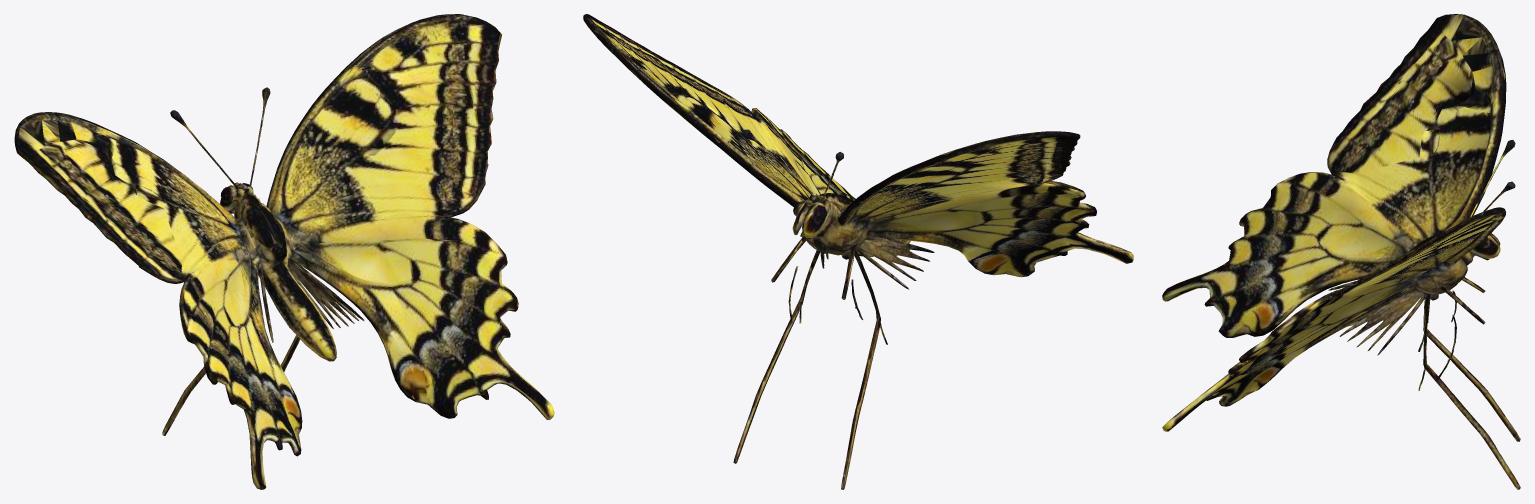
File: swallow.glb
3 views of the same model, side by side, from view 1: azimuth 30°, elevation 25°; view 2: azimuth 150°, elevation 25°; view 3: azimuth 270°, elevation 25° (orthographic). The views are drawn at different scales.
Parts seen in each view (by area): view 1: swallow; view 2: swallow; view 3: swallow.
Boxes of the visible parts, box(x1,y1,x2,y2) form: swallow: box(14, 14, 554, 489); swallow: box(583, 14, 1133, 489); swallow: box(1162, 14, 1520, 489).
Bounding box in the file's own units: 1 × 0.7365 × 0.6869.
1 material, 1 textured.
